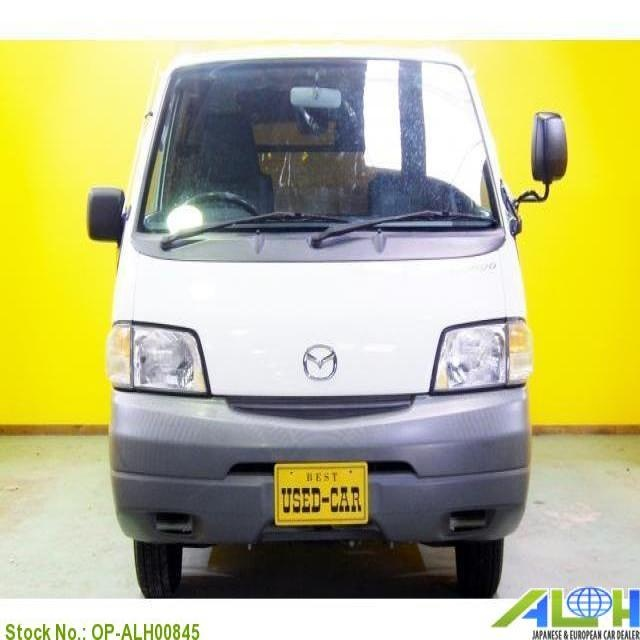Van: (88, 39, 566, 586)
